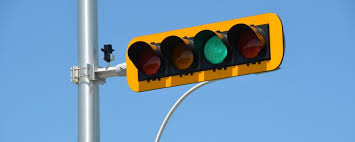traffic light: (122, 20, 288, 89)
